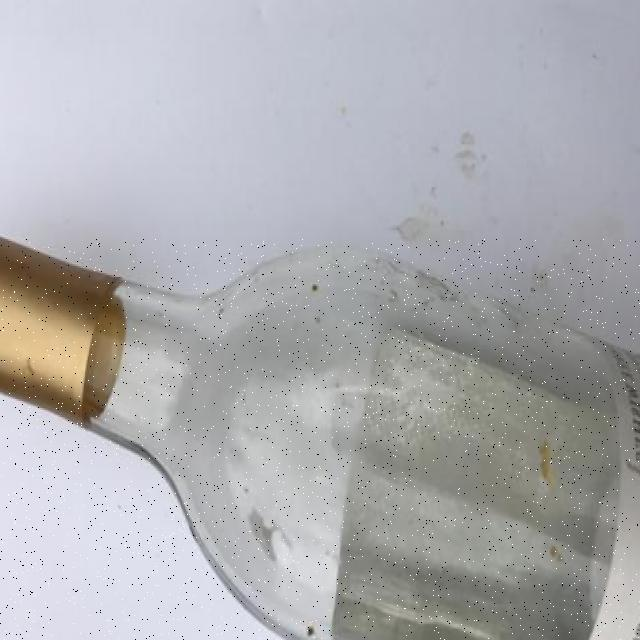glass: (0, 239, 640, 640)
